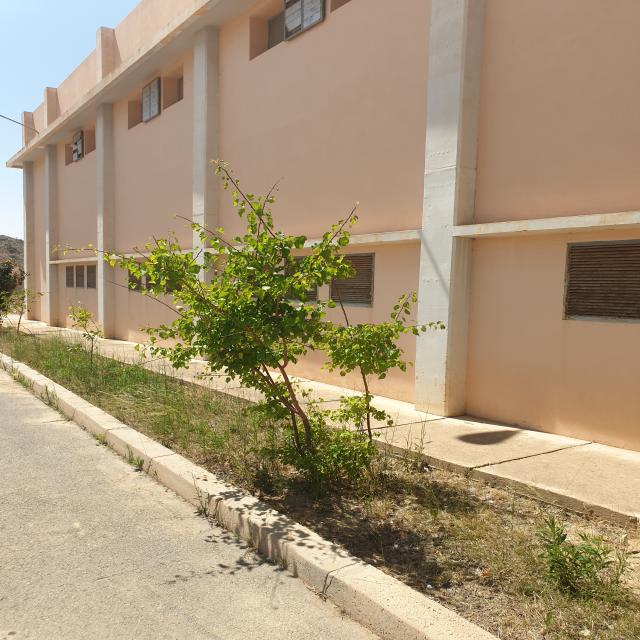Tree: (97, 160, 357, 457)
